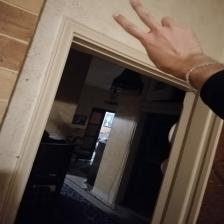two: (109, 0, 220, 84)
